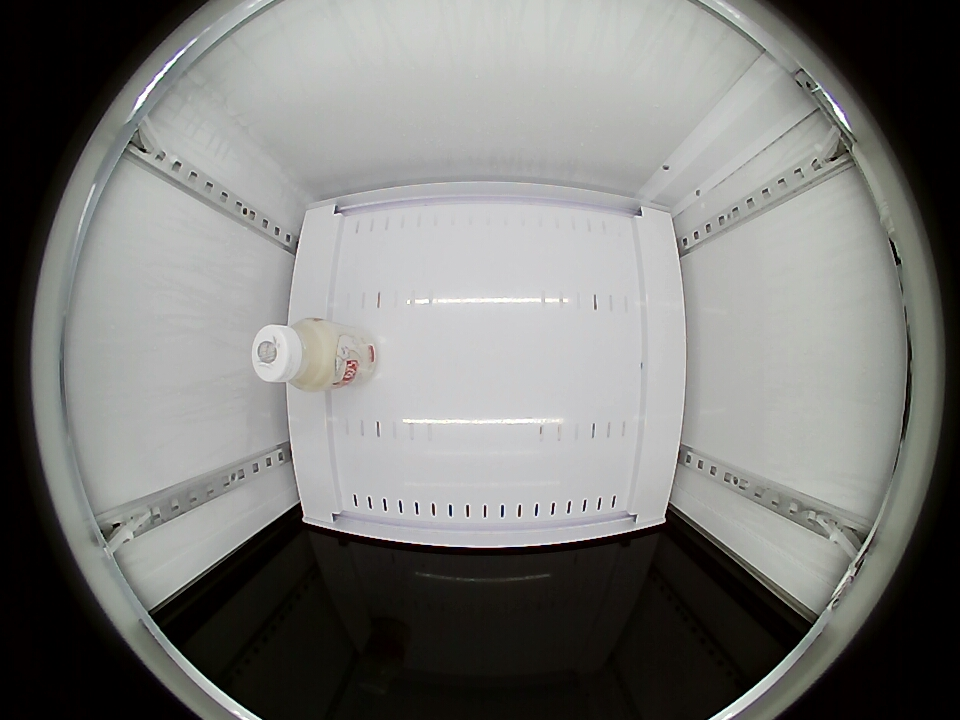weiweidounai: (252, 318, 338, 391)
